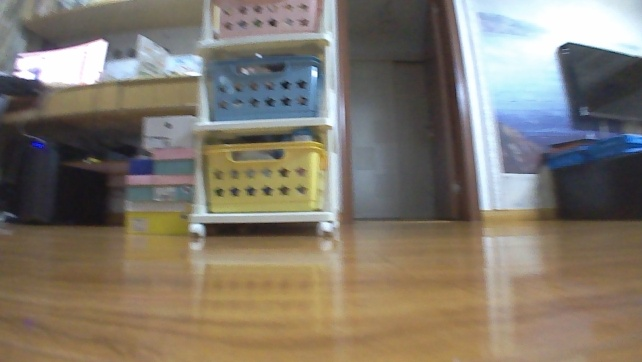door_anno: (415, 1, 465, 222)
